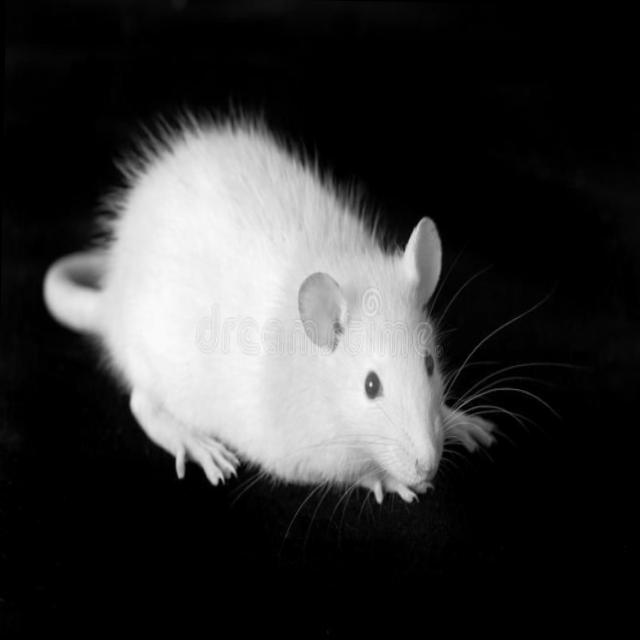rodents: (80, 93, 462, 552)
